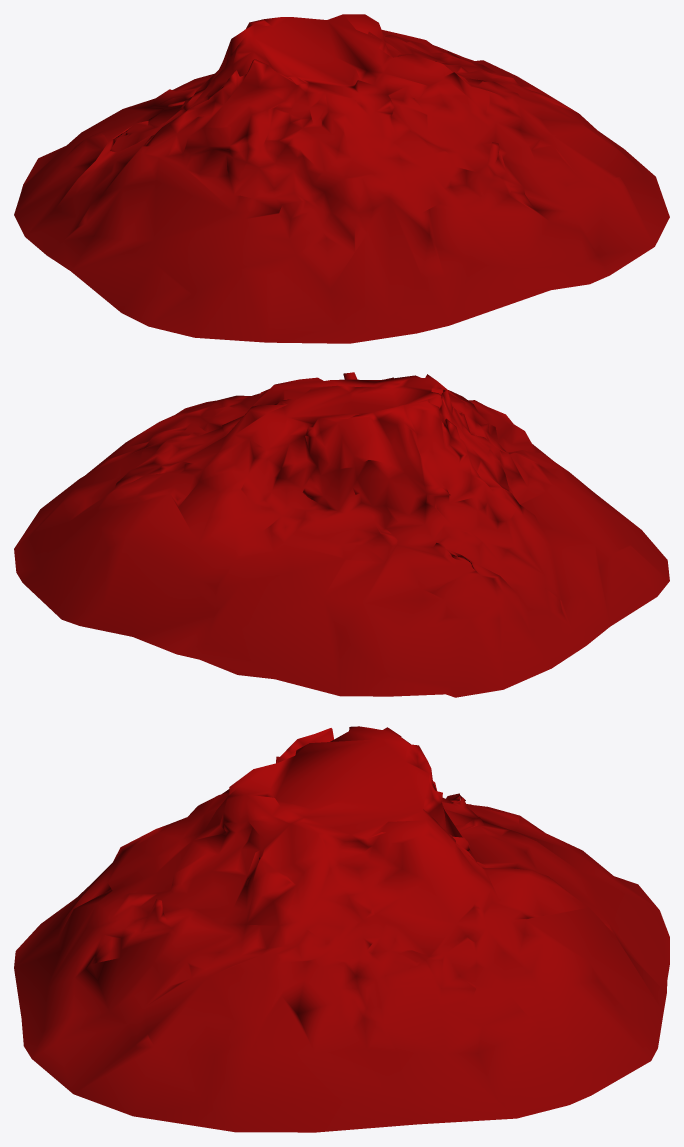
File: stump_b.glb
3 renders of one model, top to bottom at view 1: azimuth 30°, elevation 25°; view 2: azimuth 150°, elevation 25°; view 3: azimuth 270°, elevation 25°, orthographic. The views are drawn at different scales.
Visible parts, largest first — view 1: LOD0; view 2: LOD0; view 3: LOD0.
Boxes of the visible parts, x1,y1,x2,y2 form: LOD0: (14,14,669,343); LOD0: (14,372,669,697); LOD0: (14,726,669,1132).
Size of what is drawn, in the model's own units: 1.52 by 0.5184 by 1.39.
